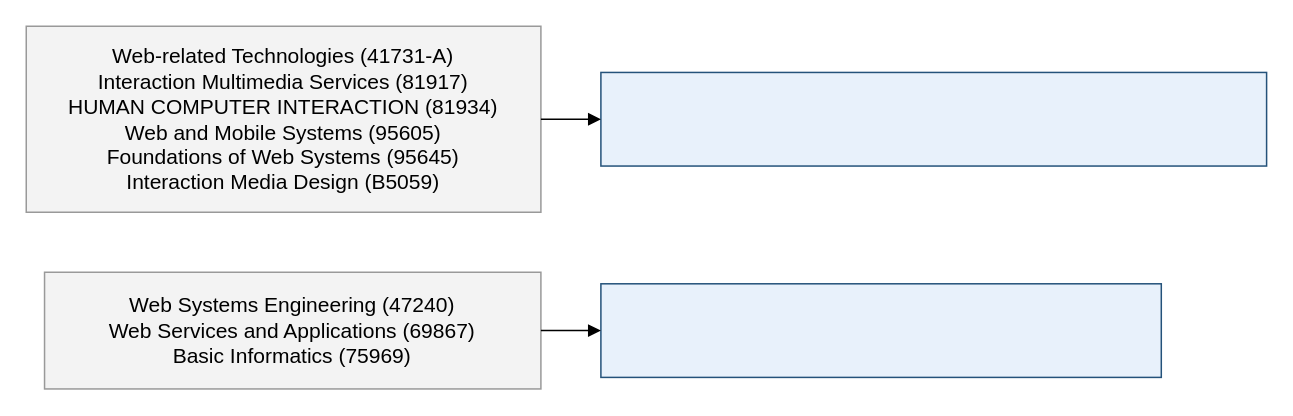
Some shapes in this 1293 by 416 pixel diagram are drawn without their labels. The shapes that lost their labels are listed below. From the top down, each one's box as (x1, y1, x2, y2) in pixels, then its label:
(599, 71, 1267, 166): Web Human-Computer Interaction and User Experience 3 ECTS
(599, 282, 1161, 377): Web Application Foundations and Technology 6 ECTS
